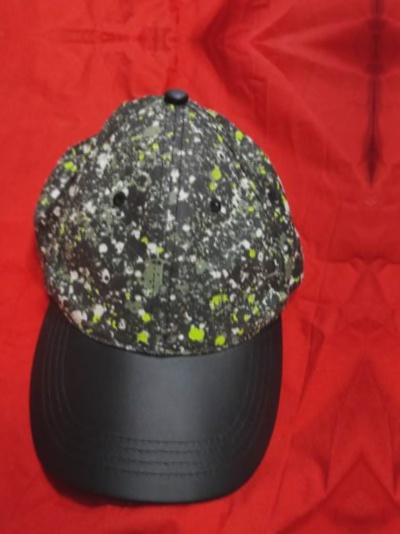Hat: (6, 72, 329, 534), (25, 0, 347, 7)
